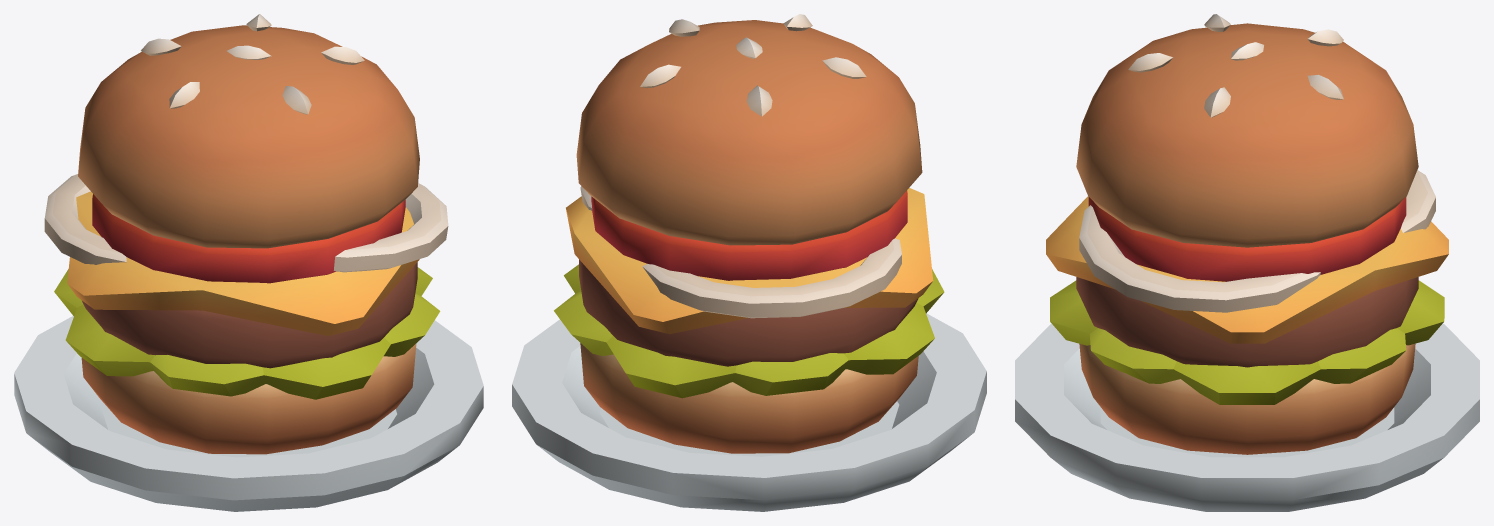
File: Burger.glb
3 views of the same model, side by side, from view 1: azimuth 30°, elevation 25°; view 2: azimuth 150°, elevation 25°; view 3: azimuth 270°, elevation 25° (orthographic).
Parts seen in each view (by area): view 1: food_burger; view 2: food_burger; view 3: food_burger.
Boxes of the visible parts, bbox=[...] form: food_burger: bbox=[14, 14, 483, 511]; food_burger: bbox=[512, 14, 986, 511]; food_burger: bbox=[1015, 14, 1479, 511].
Size of the model in its own units: 0.95 by 0.8572 by 0.95.
1 material, 1 textured.
